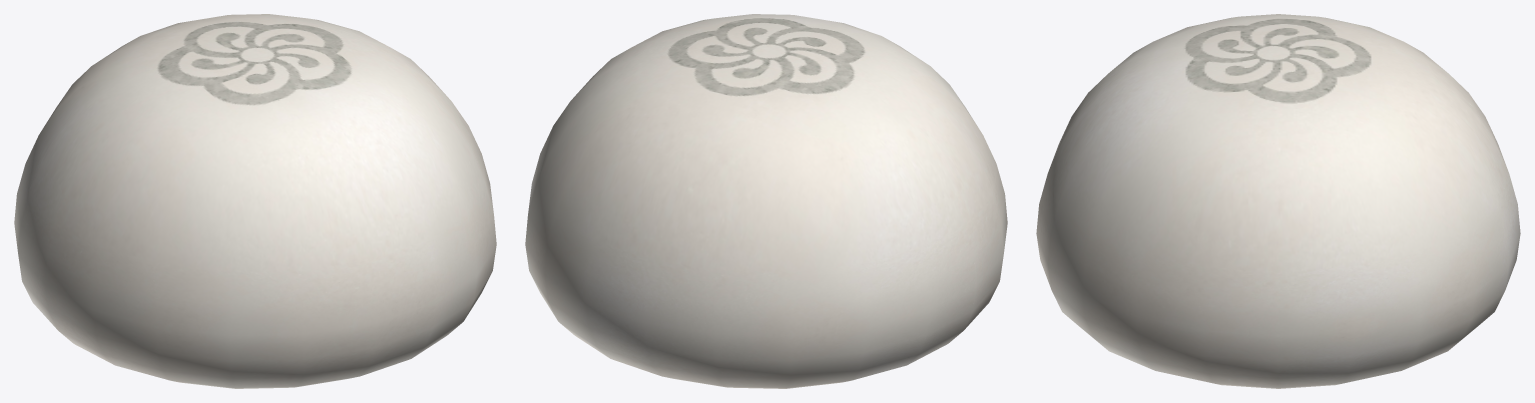
Rendered from bun_E.fbx.
The picture shows the model from 3 angles, left to right: view 1: azimuth 30°, elevation 25°; view 2: azimuth 150°, elevation 25°; view 3: azimuth 270°, elevation 25°; orthographic projection.
Visible parts, largest first — view 1: pSphere4; view 2: pSphere4; view 3: pSphere4.
Part boxes in pixels (<box>): pSphere4: <box>14,14,496,388</box>; pSphere4: <box>525,14,1007,388</box>; pSphere4: <box>1036,14,1520,388</box>.
Size of the model in its own units: 4.03 by 2.47 by 4.03.
1 material, 1 textured.
